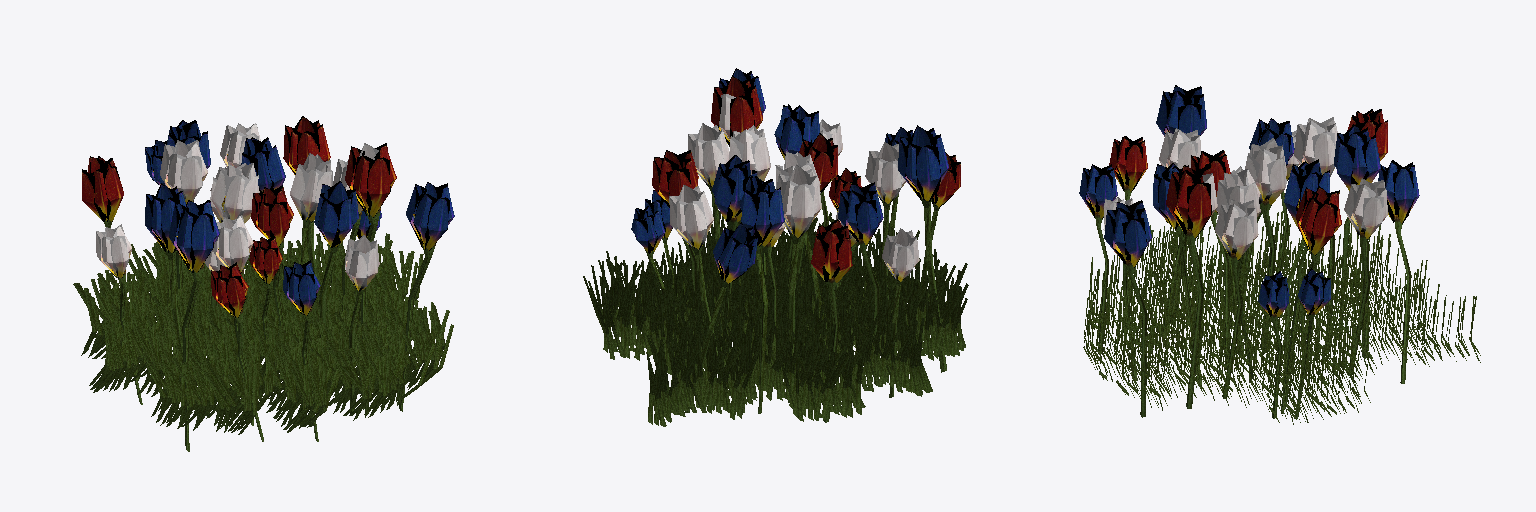
The picture shows the model from 3 angles: view 1: azimuth 30°, elevation 25°; view 2: azimuth 150°, elevation 25°; view 3: azimuth 270°, elevation 25°; orthographic projection.
Visible parts, largest first — view 1: object; view 2: object; view 3: object.
Part boxes in pixels (x1,y1,x2,y2): object: (73,116,454,451); object: (583,68,968,426); object: (1079,85,1480,424).
Size of the model in its own units: 0.7156 by 0.5247 by 0.7546.
Materials: 4 (4 with a texture image).